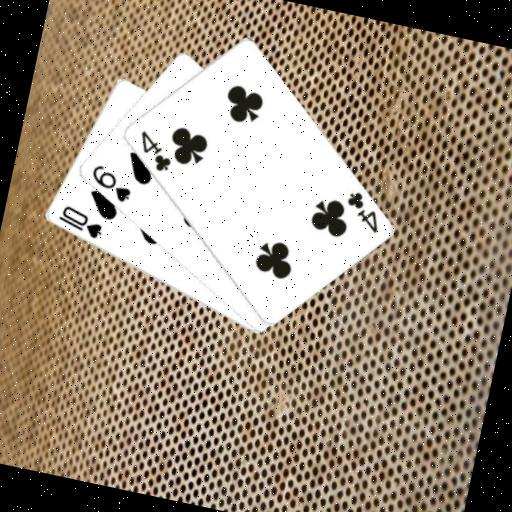10S: (51, 200, 107, 241)
4C: (338, 186, 386, 236), (130, 126, 178, 175)
6S: (83, 160, 137, 205)
